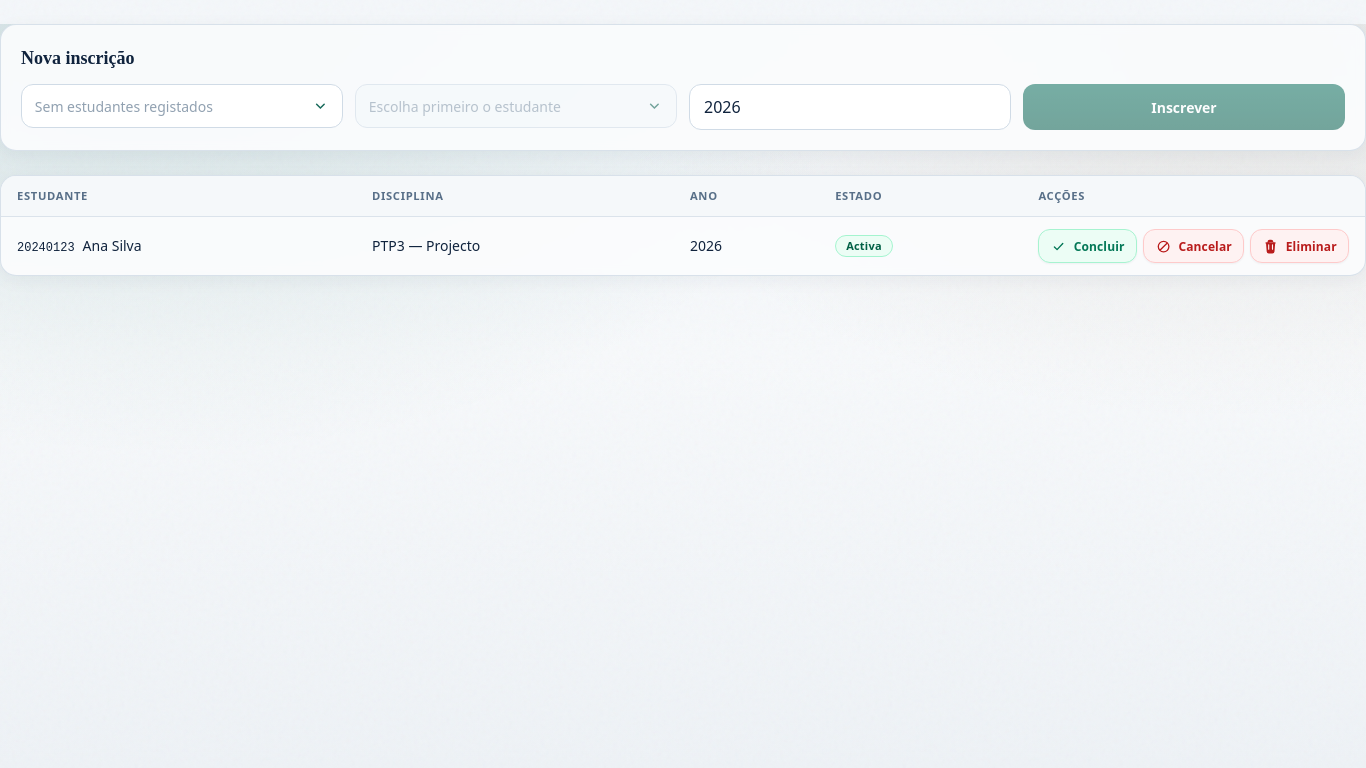
EnrolmentsPage › coordenação conclui a inscrição e recebe mensagem de sucesso
The width and height of the screenshot is (1366, 768).
Click the button "Concluir" at (1088, 246), box x1=1038 y1=229 x2=1137 y2=263
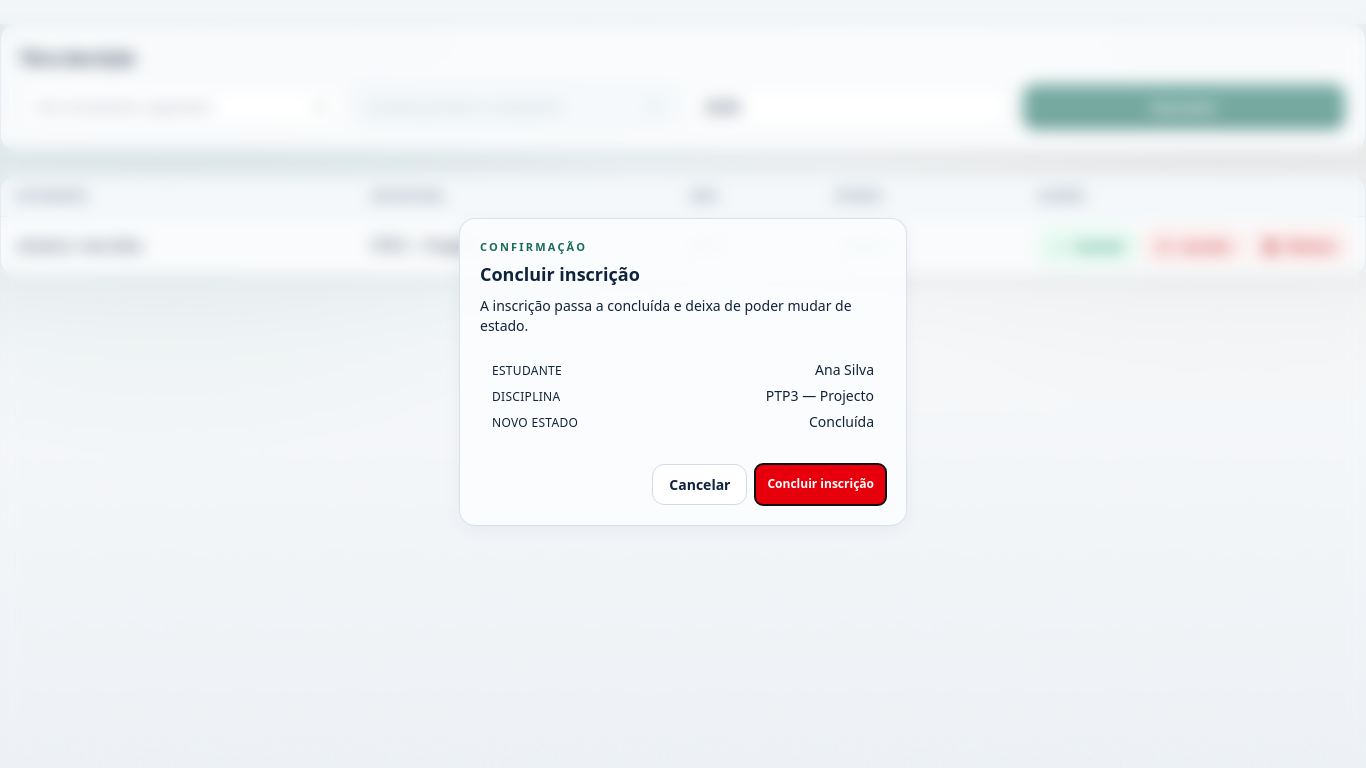
Now the dialog shows "Concluir inscrição", box x1=480 y1=262 x2=640 y2=286
Click the button "Concluir inscrição" at (821, 484), box x1=756 y1=464 x2=886 y2=505
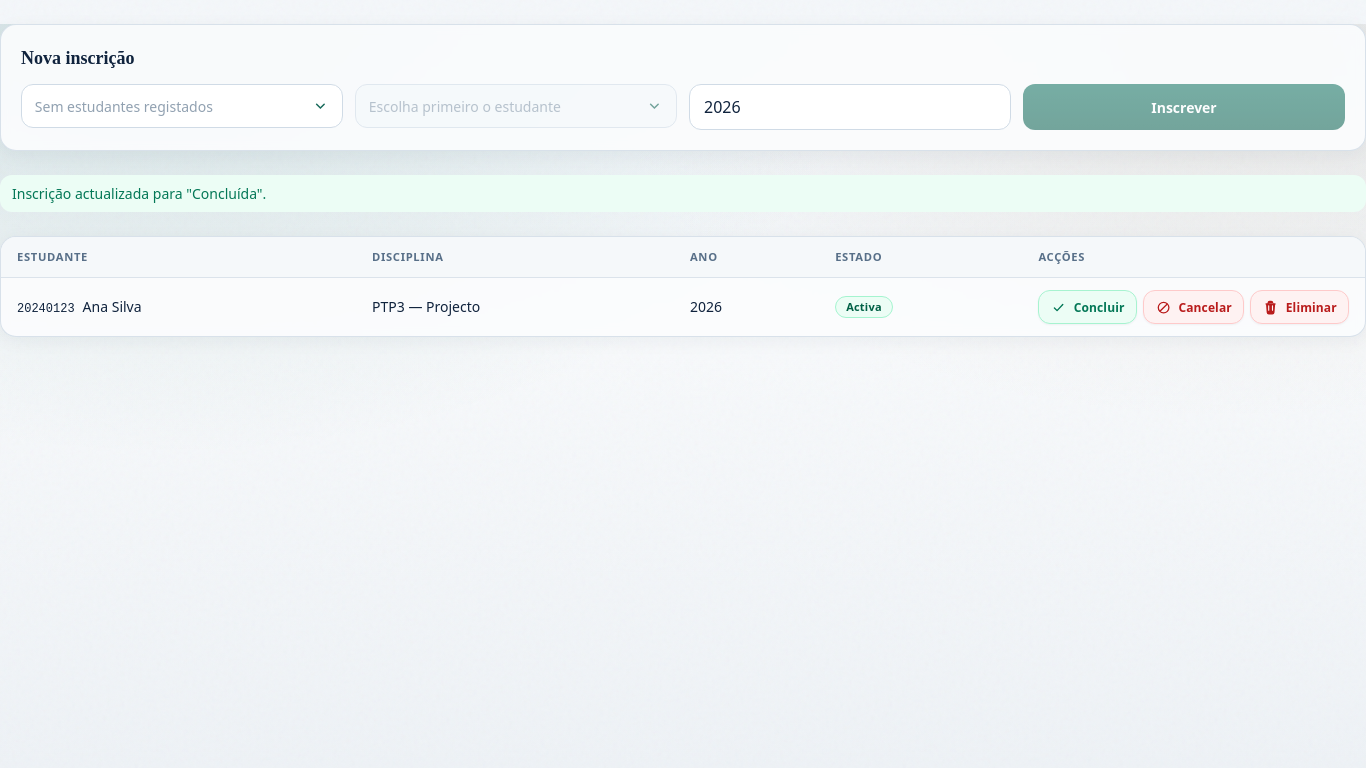
Now the message reads "Inscrição actualizada para \"Concluída\".", box x1=12 y1=184 x2=266 y2=203
